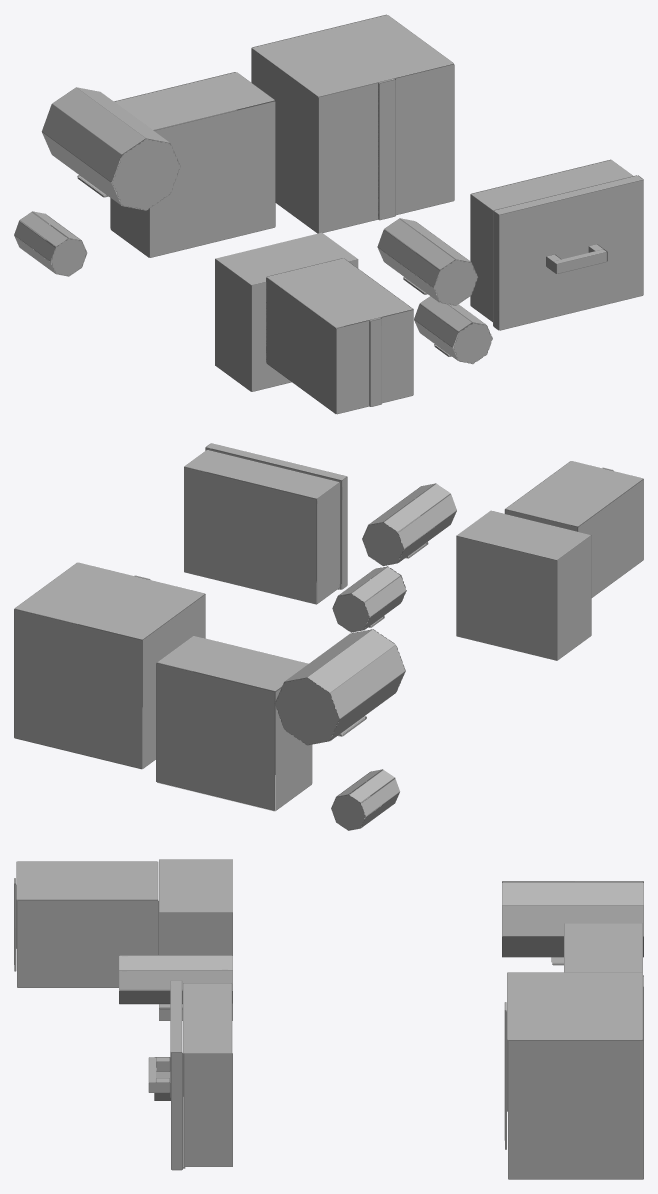
Rendered from contents_books_misc_02_48.obj.
The picture shows the model from 3 angles, top to bottom: view 1: azimuth 30°, elevation 25°; view 2: azimuth 150°, elevation 25°; view 3: azimuth 270°, elevation 25°; orthographic projection. The views are drawn at different scales.
Visible parts, largest first — view 1: contents_books_misc_02_48; view 2: contents_books_misc_02_48; view 3: contents_books_misc_02_48.
Part boxes in pixels (x1=…): contents_books_misc_02_48: x1=14, y1=14, x2=643, y2=414; contents_books_misc_02_48: x1=14, y1=443, x2=643, y2=830; contents_books_misc_02_48: x1=14, y1=859, x2=643, y2=1179.
Bounding box in the file's own units: 0.819 × 0.299 × 1.1.
1 material, 1 textured.
